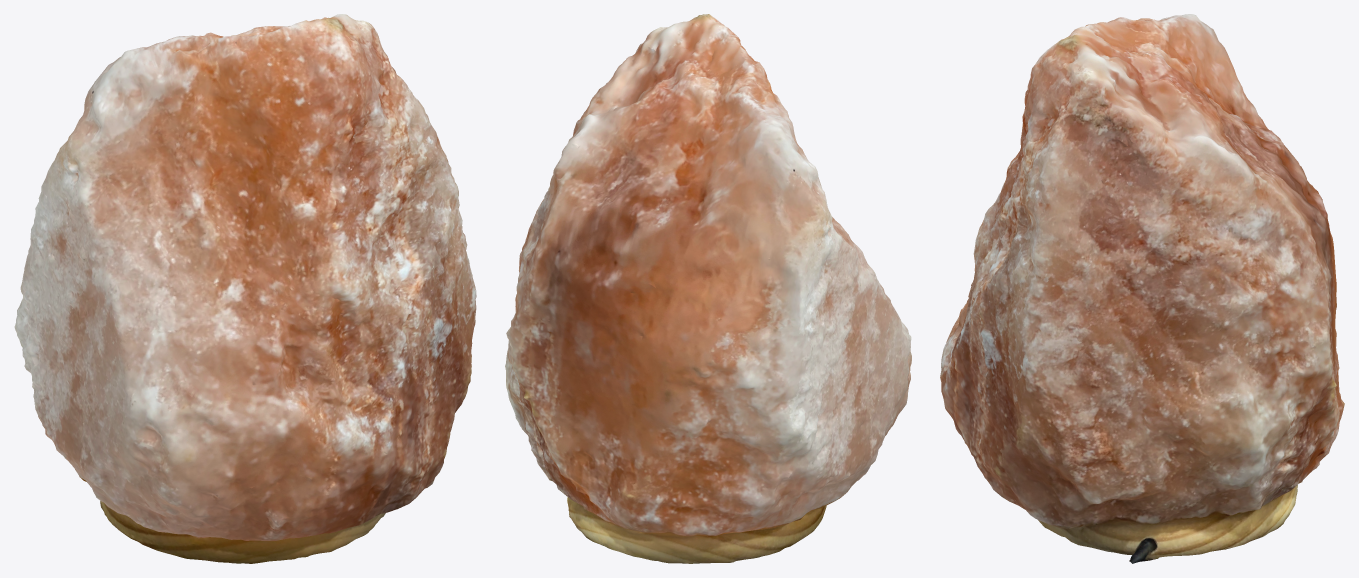
File: himalayan_salt_lamp_v2.glb
3 views of the same model, side by side, from view 1: azimuth 30°, elevation 25°; view 2: azimuth 150°, elevation 25°; view 3: azimuth 270°, elevation 25° (orthographic). The views are drawn at different scales.
Visible parts, largest first — view 1: Object_4; view 2: Object_4; view 3: Object_4.
Part boxes in pixels (x1,y1,x2,y2): Object_4: (14, 14, 476, 563); Object_4: (505, 14, 911, 563); Object_4: (940, 14, 1344, 563).
Size of the model in its own units: 0.1319 by 0.1818 by 0.1383.
1 material, 1 textured.
